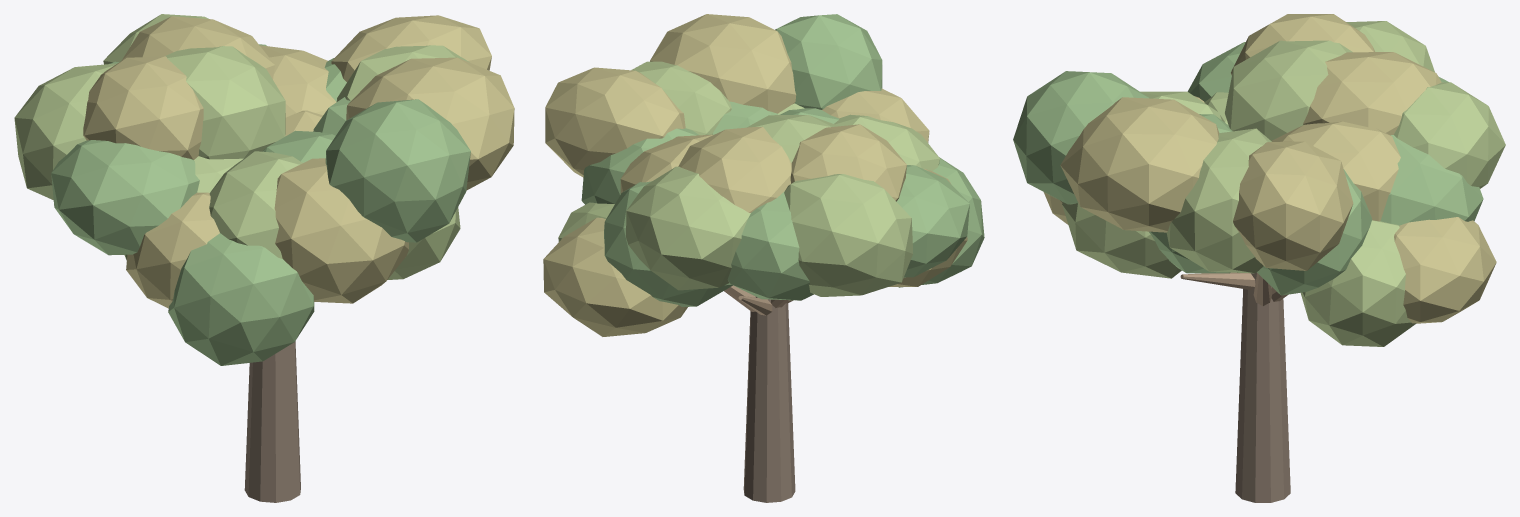
The model's file is oak_autumn.glb.
3 renders of one model, left to right at view 1: azimuth 30°, elevation 25°; view 2: azimuth 150°, elevation 25°; view 3: azimuth 270°, elevation 25°, orthographic. The views are drawn at different scales.
Parts seen in each view (by area): view 1: oak_autumn_leaves_warm, oak_autumn_leaves, oak_autumn_leaves_light, oak_autumn_bark; view 2: oak_autumn_leaves_warm, oak_autumn_leaves_light, oak_autumn_leaves, oak_autumn_bark, oak_autumn_bark_light; view 3: oak_autumn_leaves_warm, oak_autumn_leaves_light, oak_autumn_leaves, oak_autumn_bark, oak_autumn_bark_light.
Part boxes in pixels (x1=…): oak_autumn_leaves_warm: x1=83, y1=15, x2=514, y2=308; oak_autumn_leaves: x1=51, y1=44, x2=470, y2=365; oak_autumn_leaves_light: x1=14, y1=14, x2=469, y2=279; oak_autumn_bark: x1=244, y1=341, x2=300, y2=502; oak_autumn_leaves_warm: x1=543, y1=14, x2=967, y2=336; oak_autumn_leaves_light: x1=558, y1=61, x2=939, y2=296; oak_autumn_leaves: x1=581, y1=14, x2=984, y2=306; oak_autumn_bark: x1=743, y1=297, x2=795, y2=502; oak_autumn_bark_light: x1=724, y1=285, x2=793, y2=315; oak_autumn_leaves_warm: x1=1043, y1=14, x2=1496, y2=323; oak_autumn_leaves_light: x1=1062, y1=21, x2=1505, y2=346; oak_autumn_leaves: x1=1013, y1=42, x2=1483, y2=295; oak_autumn_bark: x1=1235, y1=272, x2=1290, y2=502; oak_autumn_bark_light: x1=1180, y1=272, x2=1287, y2=305.
Size of the model in its own units: 4.74 by 4.64 by 4.76.
